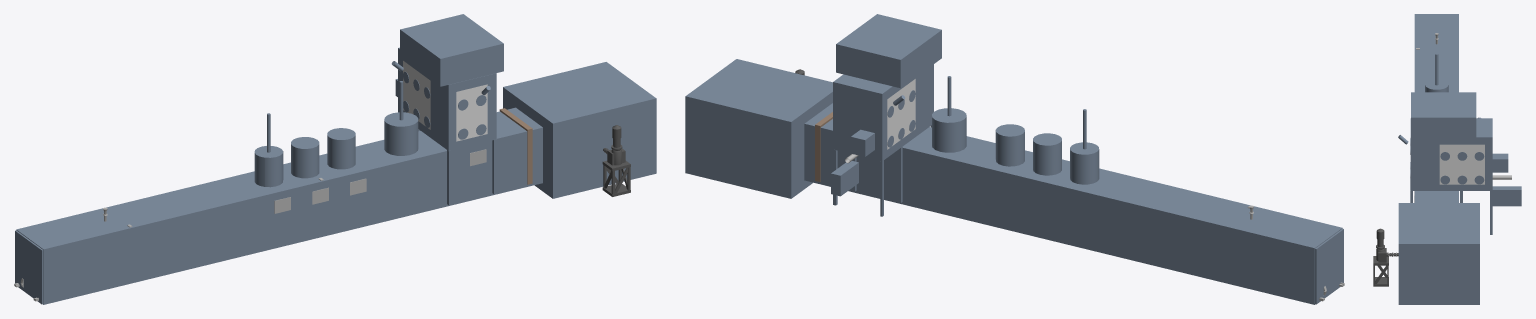
The model's file is PowderStorageProject_forUnity_distance_detachedObjects2.fbx.
The picture shows the model from 3 angles, left to right: view 1: azimuth 30°, elevation 25°; view 2: azimuth 150°, elevation 25°; view 3: azimuth 270°, elevation 25°; orthographic projection. The views are drawn at different scales.
Visible parts, largest first — view 1: Tunnel, SamplingUnitCor, Door; view 2: Tunnel, SamplingUnitCor, Door; view 3: Tunnel, SamplingUnitCor, Grabber_01.
Part boxes in pixels (x1,y1,x2,y2): Tunnel: (14,62,656,304); SamplingUnitCor: (391,14,503,205); Door: (499,108,532,184); Tunnel: (685,59,1344,304); SamplingUnitCor: (831,14,941,216); Door: (815,112,832,181); Tunnel: (1373,14,1479,304); SamplingUnitCor: (1398,92,1521,234); Grabber_01: (1435,53,1438,85).
Bounding box in the file's own units: 1508 × 380 × 393.
